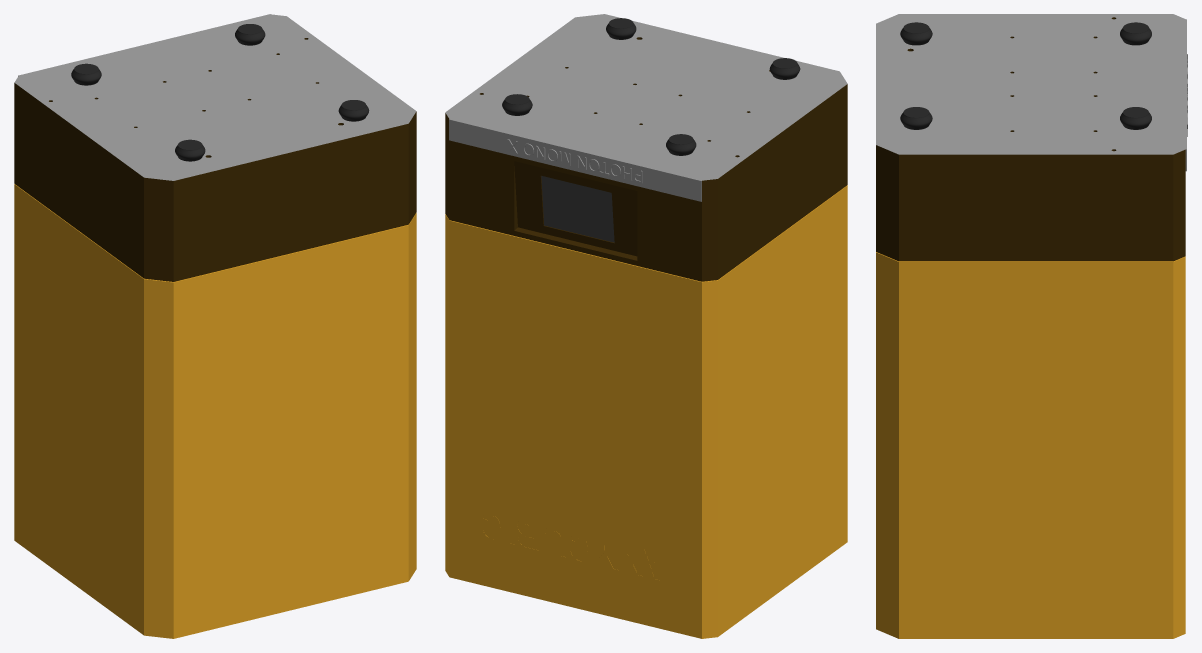
File: Anycubic Photon.glb
The picture shows the model from 3 angles, left to right: view 1: azimuth 30°, elevation 25°; view 2: azimuth 150°, elevation 25°; view 3: azimuth 270°, elevation 25°; orthographic projection. The views are drawn at different scales.
Parts seen in each view (by area): view 1: UV cover:1, Base:1; view 2: UV cover:1, Base:1; view 3: UV cover:1, Base:1, Damper:1 (×2), Damper(Mirror):1 (×2).
Part boxes in pixels (x1=…): UV cover:1: x1=14, y1=184, x2=416, y2=638; Base:1: x1=14, y1=14, x2=416, y2=281; UV cover:1: x1=445, y1=185, x2=847, y2=638; Base:1: x1=445, y1=14, x2=847, y2=281; UV cover:1: x1=876, y1=252, x2=1185, y2=638; Base:1: x1=876, y1=14, x2=1187, y2=261; Damper:1 (×2): x1=900, y1=22, x2=1151, y2=45; Damper(Mirror):1 (×2): x1=900, y1=107, x2=1151, y2=129.
Bounding box in the file's own units: 0.288 × 0.476 × 0.27.
